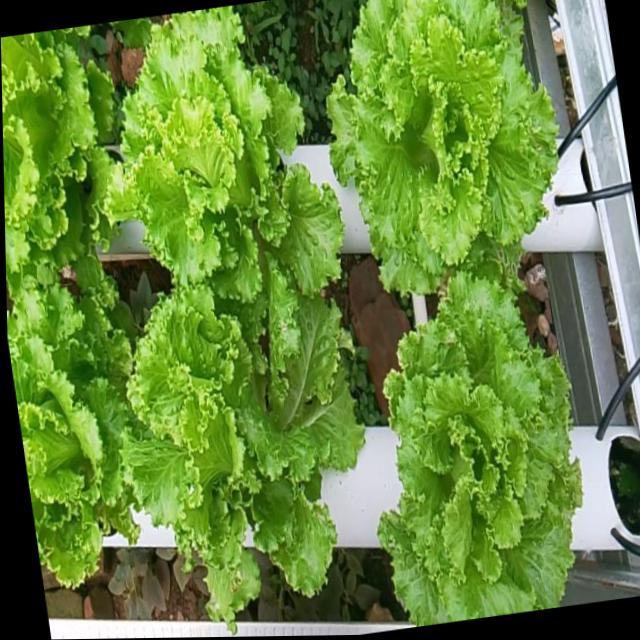Mature: (120, 296, 361, 624), (375, 263, 579, 626), (111, 7, 339, 326), (322, 0, 553, 294), (7, 289, 134, 592), (1, 29, 107, 299)
